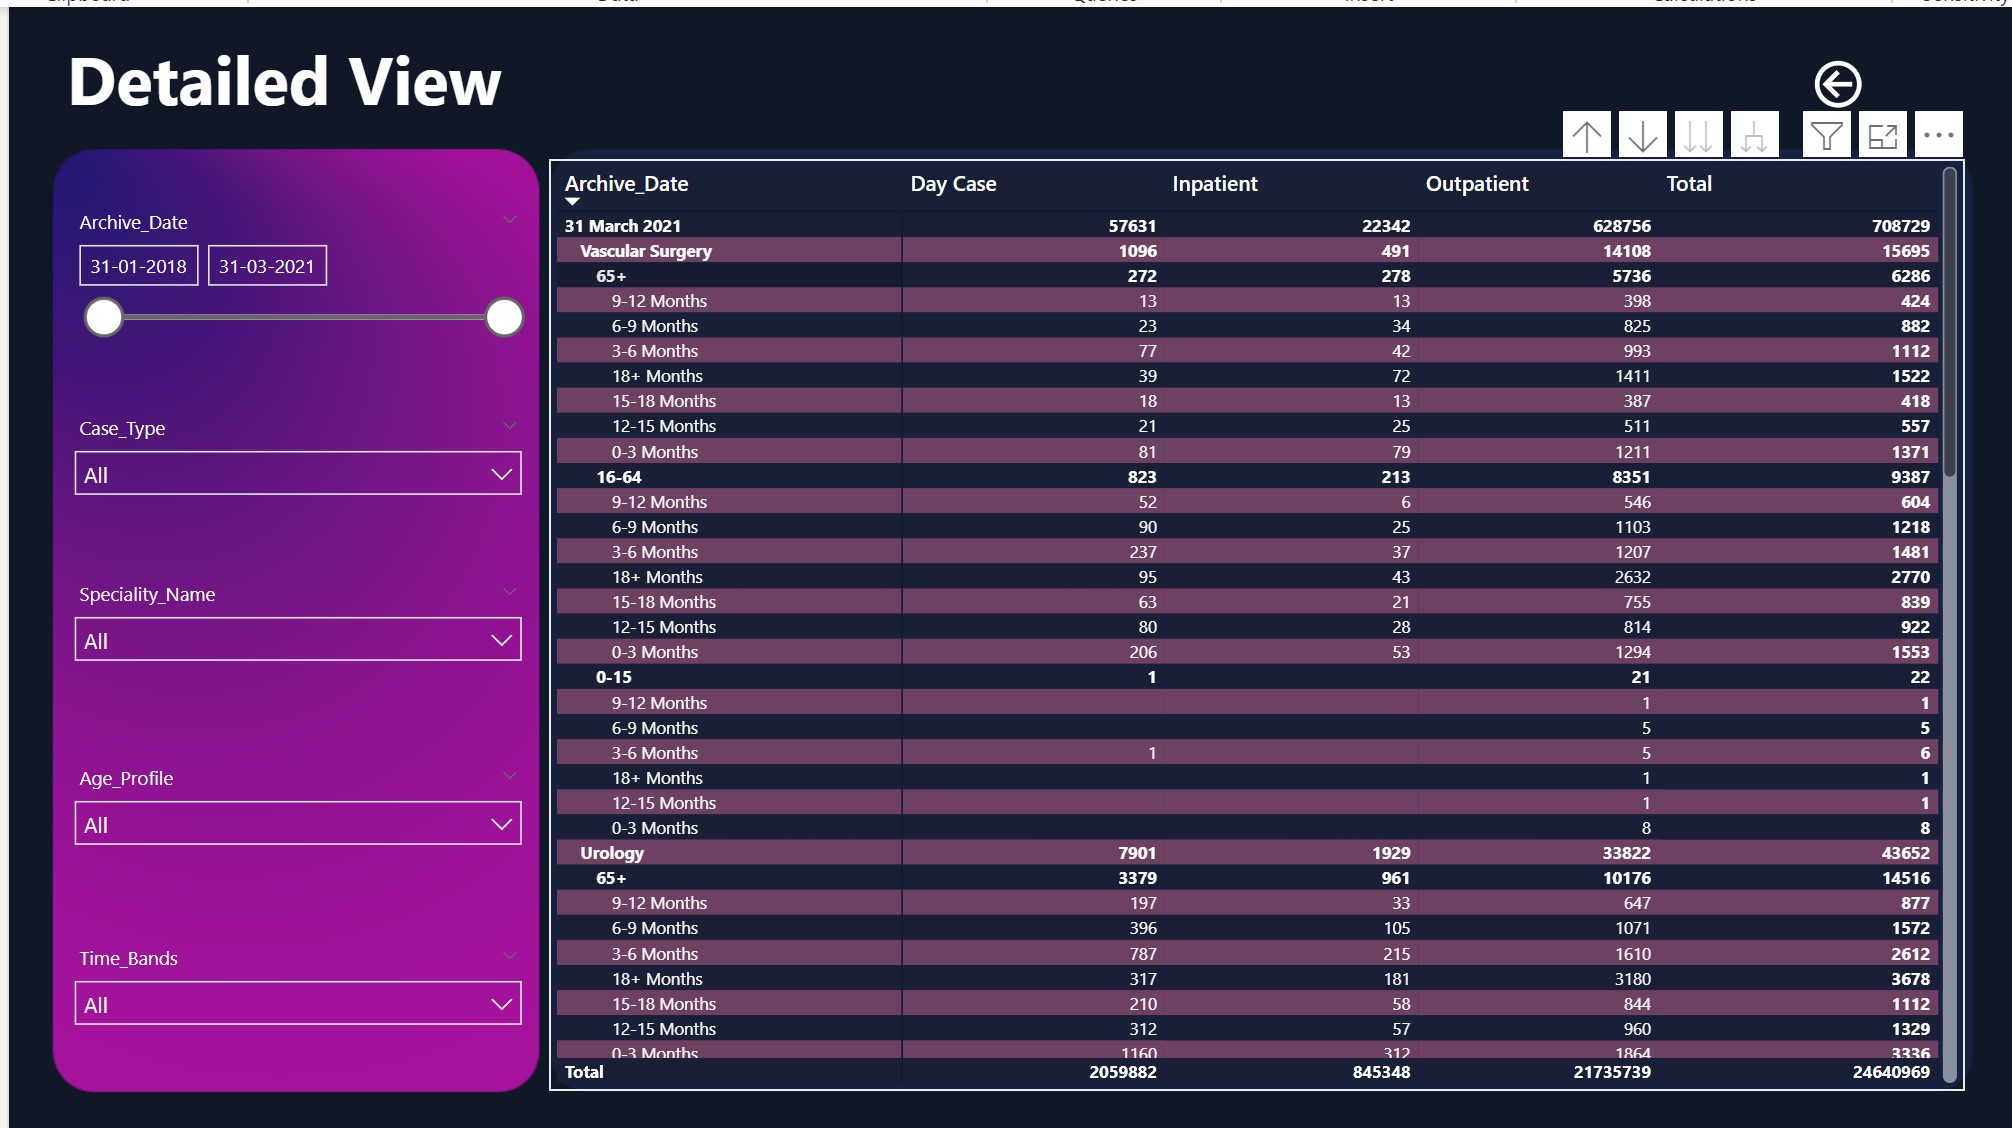

The page's visual inventory and layout, read from the dashboard file:
{"tool":"powerbi","page":{"name":"Detail","canvas":[1280,720],"ordinal":1},"visuals":[{"type":"slicer","fields":{"Values":["All_Data.Archive_Date"]},"box":[31.8,124,304.8,95.5],"z":0},{"type":"slicer","fields":{"Values":["All_Data.Case_Type"]},"box":[31.8,254.8,304.8,63.7],"z":1000},{"type":"slicer","fields":{"Values":["All_Data.Speciality_Name"]},"box":[31.8,360.6,304.8,63.7],"z":2000},{"type":"textbox","box":[31.8,11.4,344.6,76.2],"z":3000},{"type":"slicer","fields":{"Values":["All_Data.Age_Profile"]},"box":[31.8,477.7,304.8,63.7],"z":4000},{"type":"slicer","fields":{"Values":["All_Data.Time_Bands"]},"box":[31.8,592.6,304.8,63.7],"z":5000},{"type":"pivotTable","fields":{"Rows":["All_Data.Archive_Date","All_Data.Speciality_Name","All_Data.Age_Profile","All_Data.Time_Bands"],"Columns":["All_Data.Case_Type"],"Values":["Sum(All_Data.Total)"]},"box":[344.2,96.9,902.6,594.1],"z":6000},{"type":"actionButton","box":[1146.5,29.6,100.1,39.8],"z":7000}]}

Visuals, with their boxes in screenshot pixels (x1, y1, x2, y2), scaled from the page's 1280x720 canvas onto the 2012x1128 screenshot:
slicer - All_Data.Archive_Date: <region>50, 194, 529, 344</region>
slicer - All_Data.Case_Type: <region>50, 399, 529, 499</region>
slicer - All_Data.Speciality_Name: <region>50, 565, 529, 665</region>
textbox: <region>50, 18, 592, 137</region>
slicer - All_Data.Age_Profile: <region>50, 748, 529, 848</region>
slicer - All_Data.Time_Bands: <region>50, 928, 529, 1028</region>
pivotTable - All_Data.Archive_Date x All_Data.Speciality_Name: <region>541, 152, 1960, 1083</region>
actionButton: <region>1802, 46, 1959, 109</region>
